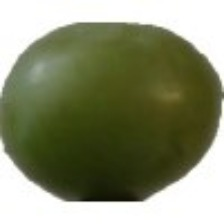grapes: (23, 19, 195, 194)
